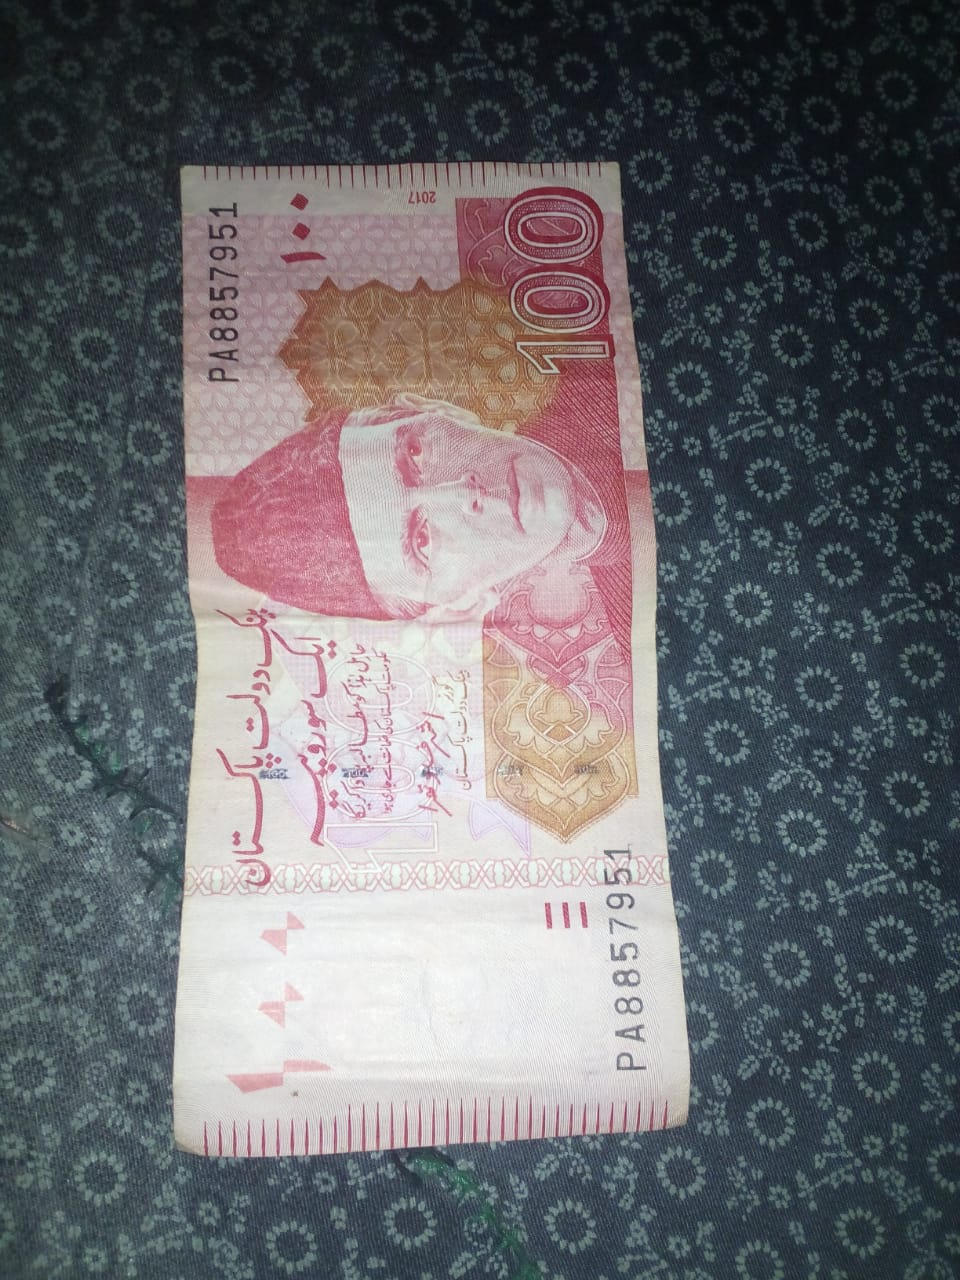100 rupee: (129, 139, 739, 1198)
